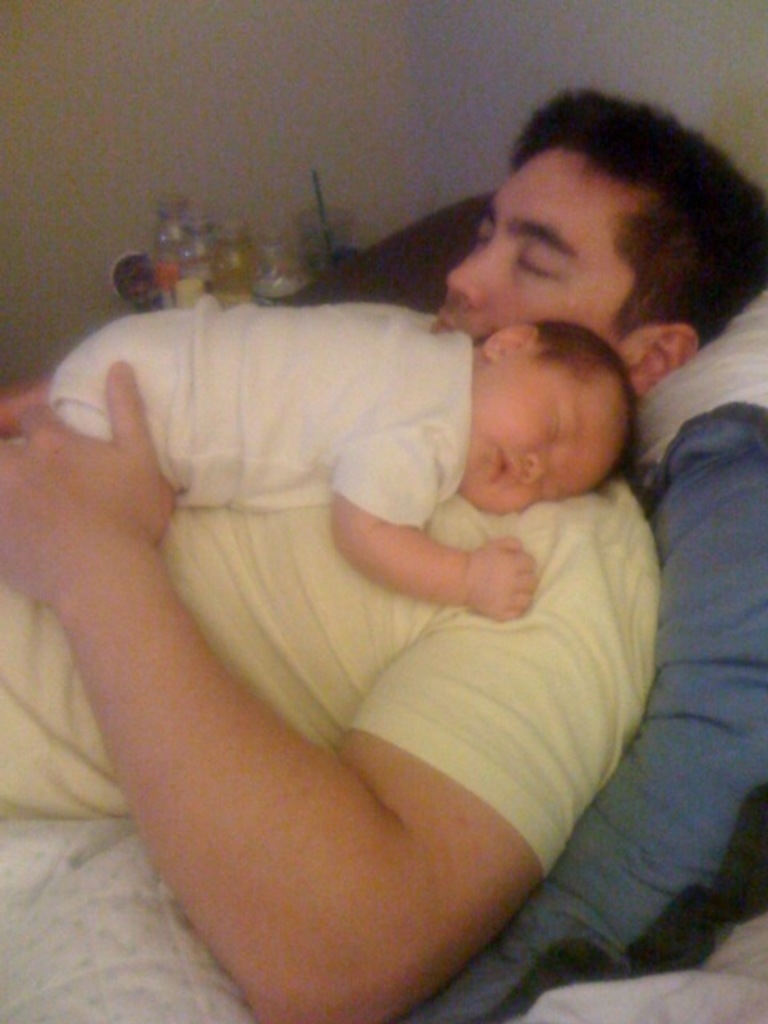Human_hand: (0, 355, 178, 605), (462, 531, 541, 618)
